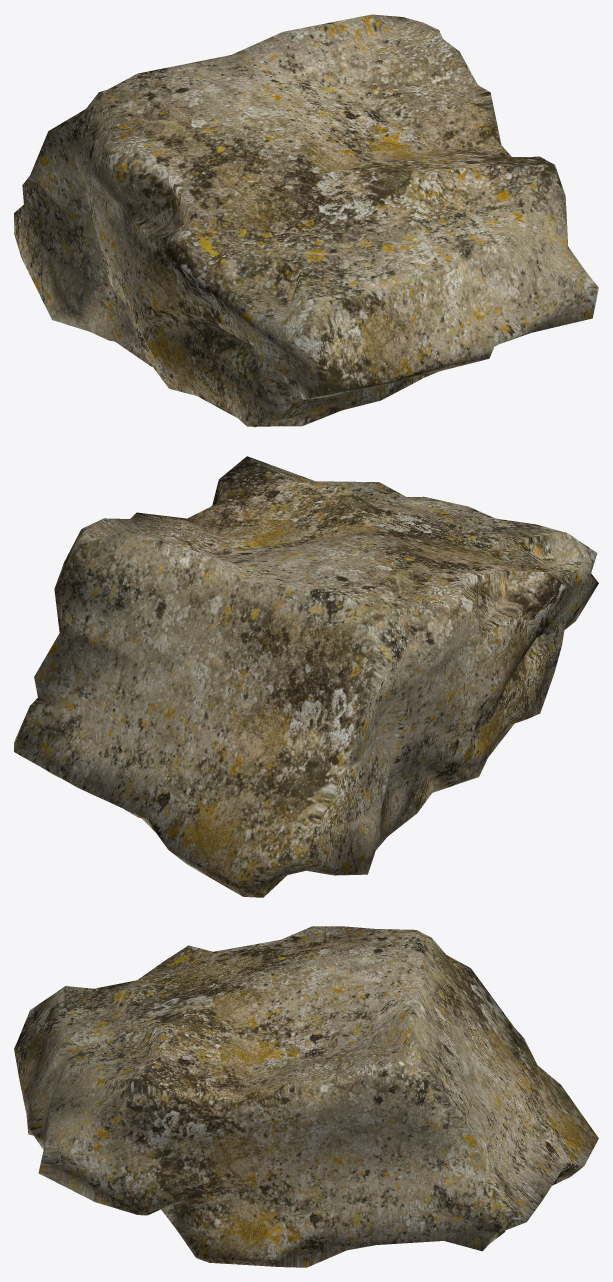
File: roca3.obj
The picture shows the model from 3 angles, top to bottom: view 1: azimuth 30°, elevation 25°; view 2: azimuth 150°, elevation 25°; view 3: azimuth 270°, elevation 25°; orthographic projection. The views are drawn at different scales.
Parts seen in each view (by area): view 1: Rock_7; view 2: Rock_7; view 3: Rock_7.
Boxes of the visible parts, x1,y1,x2,y2 form: Rock_7: (14,14,598,427); Rock_7: (14,456,598,897); Rock_7: (14,926,598,1267).
Size of the model in its own units: 4.03 by 2.68 by 5.99.
Materials: 1 (1 with a texture image).
